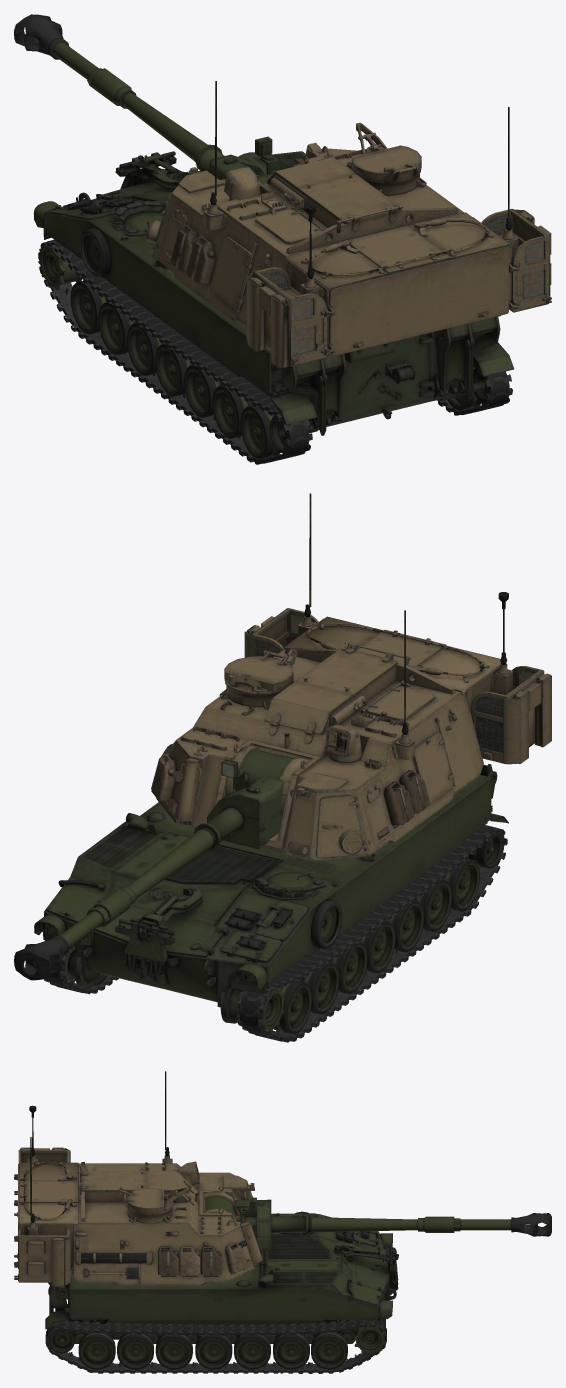
The model's file is type_m109a6.glb.
3 views of the same model, one above another, from view 1: azimuth 30°, elevation 25°; view 2: azimuth 150°, elevation 25°; view 3: azimuth 270°, elevation 25° (orthographic). The views are drawn at different scales.
Visible parts, largest first — view 1: g_turret_m109a6, hull, tread_left, g_cannon_m284l52, g_noeffec01_turret_m109a6, g_cannonbase_m109a6_m284l52, wheel8, wheel7, wheel2, wheel6, wheel5, wheel3 (+3 smaller); view 2: g_turret_m109a6, hull, tread_left, g_cannonbase_m109a6_m284l52, g_cannon_m284l52, g_noeffec01_turret_m109a6, wheel2, wheel3, wheel8, wheel7, wheel6, wheel4 (+5 smaller); view 3: g_turret_m109a6, hull, tread_right, g_cannon_m284l52, g_cannonbase_m109a6_m284l52, g_noeffec02_turret_m109a6, wheel17, wheel11, wheel16, wheel15, wheel12, wheel14 (+5 smaller).
Part boxes in pixels (x1,y1,x2,y2): g_turret_m109a6: [146, 122, 551, 368]; hull: [33, 151, 514, 435]; tread_left: [38, 239, 312, 464]; g_cannon_m284l52: [14, 14, 207, 161]; g_noeffec01_turret_m109a6: [170, 224, 215, 286]; g_cannonbase_m109a6_m284l52: [195, 136, 279, 184]; wheel8: [240, 405, 279, 459]; wheel7: [212, 385, 252, 438]; wheel2: [70, 281, 106, 334]; wheel6: [184, 365, 221, 417]; wheel5: [155, 344, 191, 396]; wheel3: [98, 302, 136, 355]; g_turret_m109a6: [156, 592, 551, 860]; hull: [34, 764, 508, 1023]; tread_left: [236, 825, 507, 1042]; g_cannonbase_m109a6_m284l52: [193, 750, 292, 851]; g_cannon_m284l52: [14, 827, 215, 980]; g_noeffec01_turret_m109a6: [383, 770, 429, 828]; wheel2: [274, 980, 311, 1034]; wheel3: [299, 962, 339, 1014]; wheel8: [443, 858, 479, 911]; wheel7: [415, 879, 452, 931]; wheel6: [385, 900, 424, 952]; wheel4: [331, 942, 367, 993]; g_turret_m109a6: [14, 1105, 262, 1286]; hull: [45, 1211, 398, 1339]; tread_right: [45, 1320, 386, 1373]; g_cannon_m284l52: [308, 1213, 551, 1236]; g_cannonbase_m109a6_m284l52: [205, 1196, 308, 1250]; g_noeffec02_turret_m109a6: [158, 1246, 221, 1276]; wheel17: [78, 1332, 115, 1369]; wheel11: [311, 1332, 347, 1369]; wheel16: [117, 1333, 153, 1369]; wheel15: [155, 1334, 192, 1369]; wheel12: [273, 1333, 309, 1369]; wheel14: [195, 1334, 232, 1369].
Bounding box in the file's own units: 3.97 × 4.63 × 9.7.
Materials: 7 (7 with a texture image).
